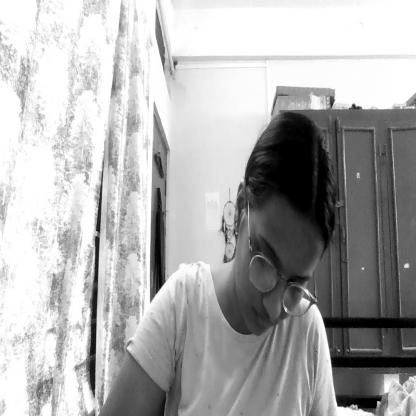Distracted: (236, 111, 337, 332)
